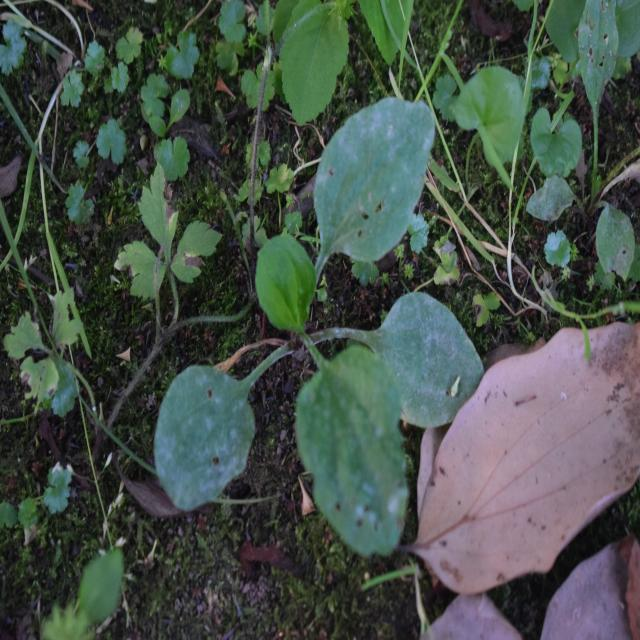plantain: (159, 112, 469, 532)
